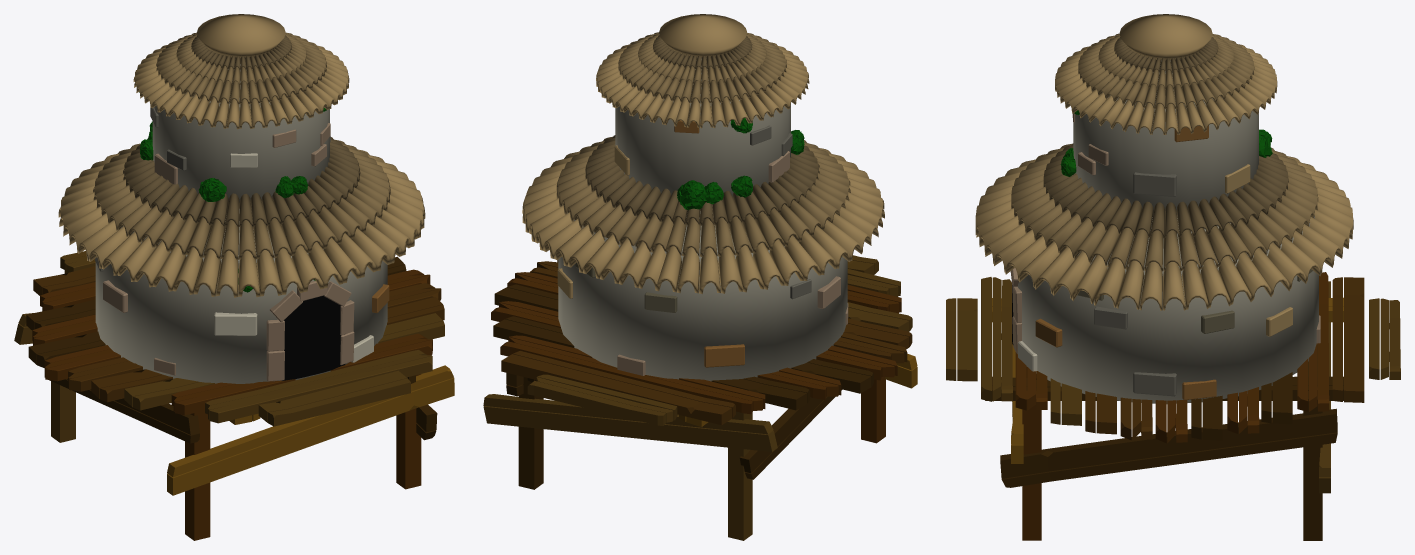
The model's file is BaseLwoas2.fbx.
3 renders of one model, left to right at view 1: azimuth 30°, elevation 25°; view 2: azimuth 150°, elevation 25°; view 3: azimuth 270°, elevation 25°, orthographic. The views are drawn at different scales.
Parts seen in each view (by area): view 1: PrimeiroAndar; view 2: PrimeiroAndar; view 3: PrimeiroAndar.
Part boxes in pixels (box(x1,y1,x2,y2)): PrimeiroAndar: box(14, 14, 454, 540); PrimeiroAndar: box(483, 14, 917, 540); PrimeiroAndar: box(946, 14, 1400, 540).
Bounding box in the file's own units: 2199 × 2430 × 2146.
